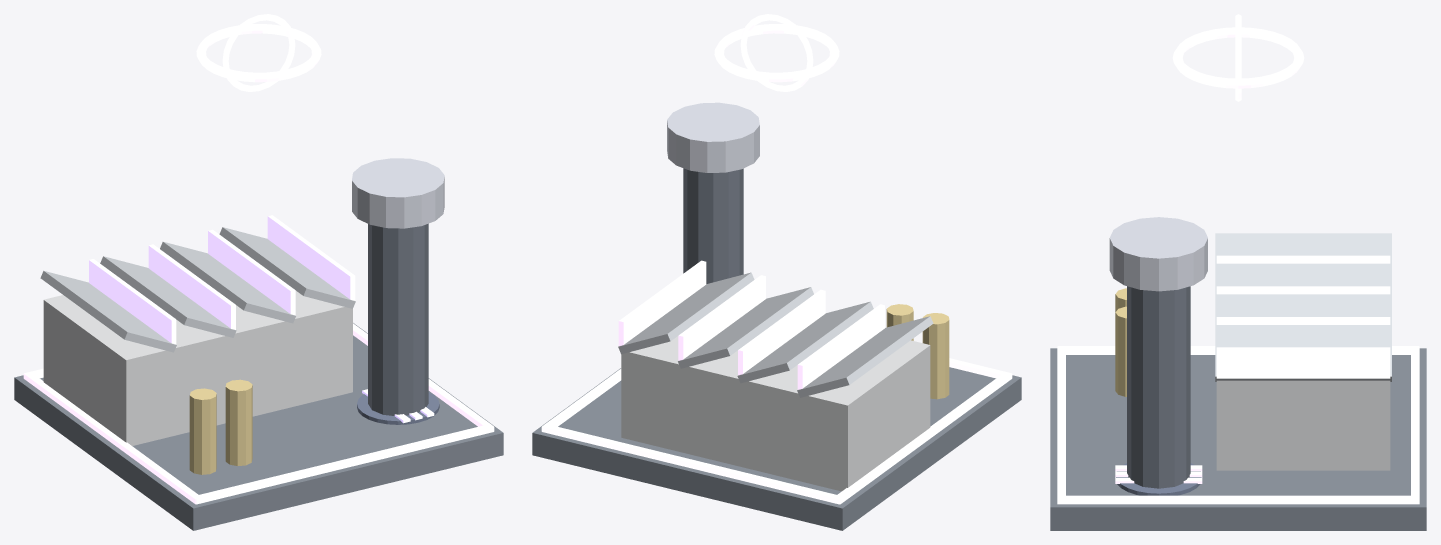
The model's file is chip_fab.glb.
3 renders of one model, left to right at view 1: azimuth 30°, elevation 25°; view 2: azimuth 150°, elevation 25°; view 3: azimuth 270°, elevation 25°, orthographic. The views are drawn at different scales.
Visible parts, largest first — view 1: Cube.005, Cube, Cylinder, Cylinder.001, Cube.006, Cube.008, Cube.010, Cube.012, Cube.001, Torus, Cube.013, Cube.007 (+8 smaller); view 2: Cube.005, Cube, Cylinder, Cylinder.001, Cube.006, Cube.008, Cube.012, Cube.010, Cube.003, Torus, Cube.013, Cube.007 (+6 smaller); view 3: Cube, Cube.005, Cylinder, Cylinder.001, Cube.013, Cube.012, Cube.008, Cube.006, Cube.010, Cube.004, Torus, Cube.007 (+8 smaller).
Part boxes in pixels (x1,y1,x2,y2): Cube.005: (43, 291, 352, 445); Cube: (14, 323, 503, 530); Cylinder: (368, 223, 428, 415); Cylinder.001: (352, 158, 444, 228); Cube.006: (40, 270, 176, 352); Cube.008: (100, 256, 236, 337); Cube.010: (160, 241, 295, 323); Cube.012: (219, 227, 355, 308); Cube.001: (194, 425, 493, 504); Torus: (196, 24, 321, 82); Cube.013: (267, 215, 355, 300); Cube.007: (89, 259, 176, 344); Cube.005: (621, 336, 930, 491); Cube: (532, 367, 1021, 530); Cylinder: (683, 168, 743, 283); Cylinder.001: (667, 102, 759, 172); Cube.006: (797, 316, 933, 397); Cube.008: (737, 301, 873, 383); Cube.012: (618, 272, 754, 354); Cube.010: (678, 287, 813, 368); Cube.003: (542, 425, 840, 504); Torus: (714, 24, 839, 82); Cube.013: (618, 260, 706, 346); Cube.007: (797, 304, 884, 389); Cube: (1050, 348, 1426, 530); Cube.005: (1216, 380, 1390, 470); Cylinder: (1127, 286, 1190, 488); Cylinder.001: (1109, 217, 1207, 291); Cube.013: (1216, 347, 1390, 378); Cube.012: (1215, 325, 1391, 381); Cube.008: (1215, 263, 1391, 294); Cube.006: (1215, 233, 1391, 263); Cube.010: (1215, 294, 1391, 324); Cube.004: (1058, 495, 1418, 504); Torus: (1172, 27, 1304, 88); Cube.007: (1216, 255, 1390, 263).
Size of the model in its own units: 2.6 by 3.31 by 2.6.
